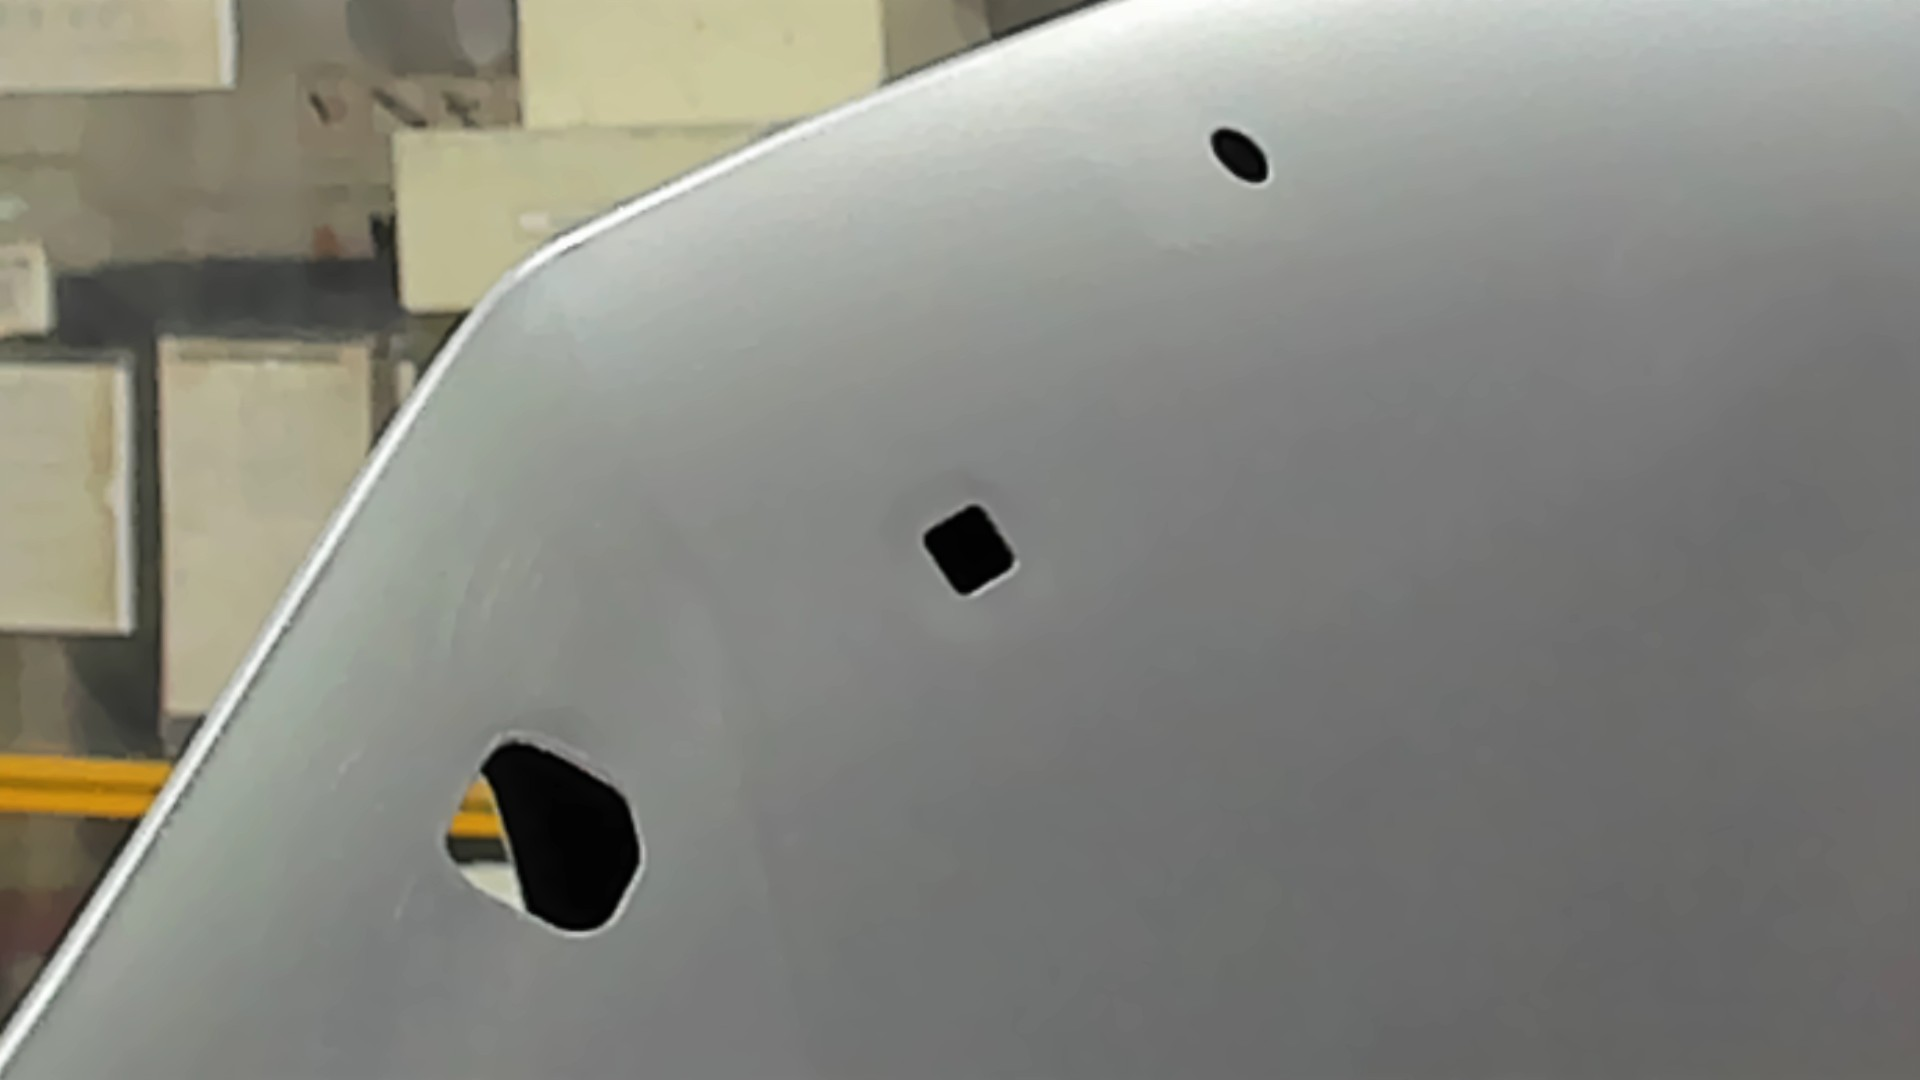chico: (1203, 119, 1275, 190)
grande: (436, 728, 654, 949)
mediano: (911, 498, 1027, 607)
